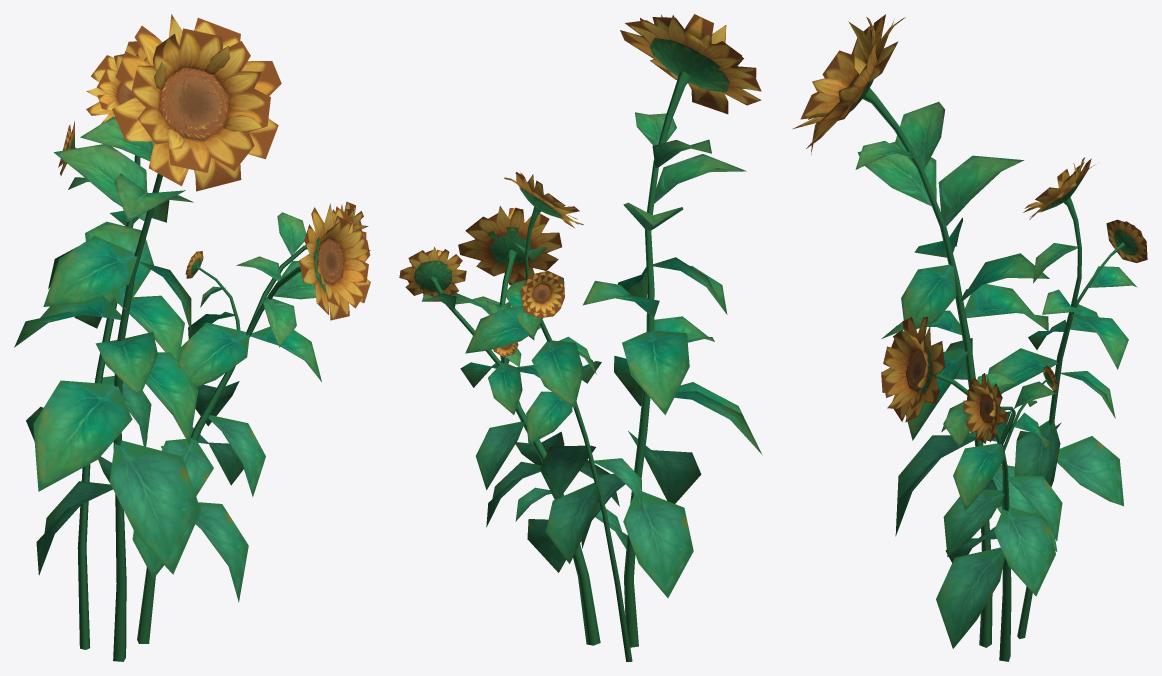
The model's file is Homeworld_Exterior_Fd_Plant_Grass_Xiangrikui_01_Lod0.fbx.
3 renders of one model, left to right at view 1: azimuth 30°, elevation 25°; view 2: azimuth 150°, elevation 25°; view 3: azimuth 270°, elevation 25°, orthographic. The views are drawn at different scales.
Visible parts, largest first — view 1: Area_Fd_Grass_Common_Xrk_02_Lod0; view 2: Area_Fd_Grass_Common_Xrk_02_Lod0; view 3: Area_Fd_Grass_Common_Xrk_02_Lod0.
Part boxes in pixels (left/top/right/bottom): Area_Fd_Grass_Common_Xrk_02_Lod0: left=14, top=14, right=370, bottom=661; Area_Fd_Grass_Common_Xrk_02_Lod0: left=399, top=14, right=762, bottom=661; Area_Fd_Grass_Common_Xrk_02_Lod0: left=792, top=14, right=1147, bottom=661.
Size of the model in its own units: 2.82 by 4.99 by 2.56.
1 material, 1 textured.
